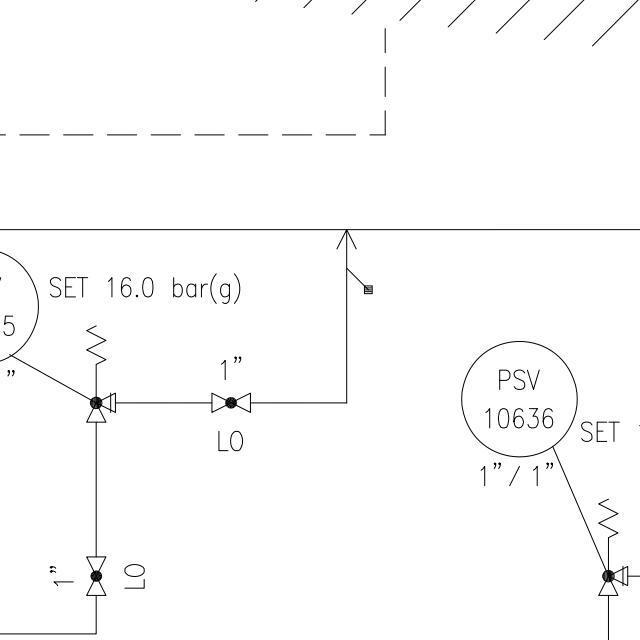BV2: (82, 551, 110, 602), (206, 390, 256, 416)
RPV: (589, 491, 636, 600), (81, 318, 125, 432)
